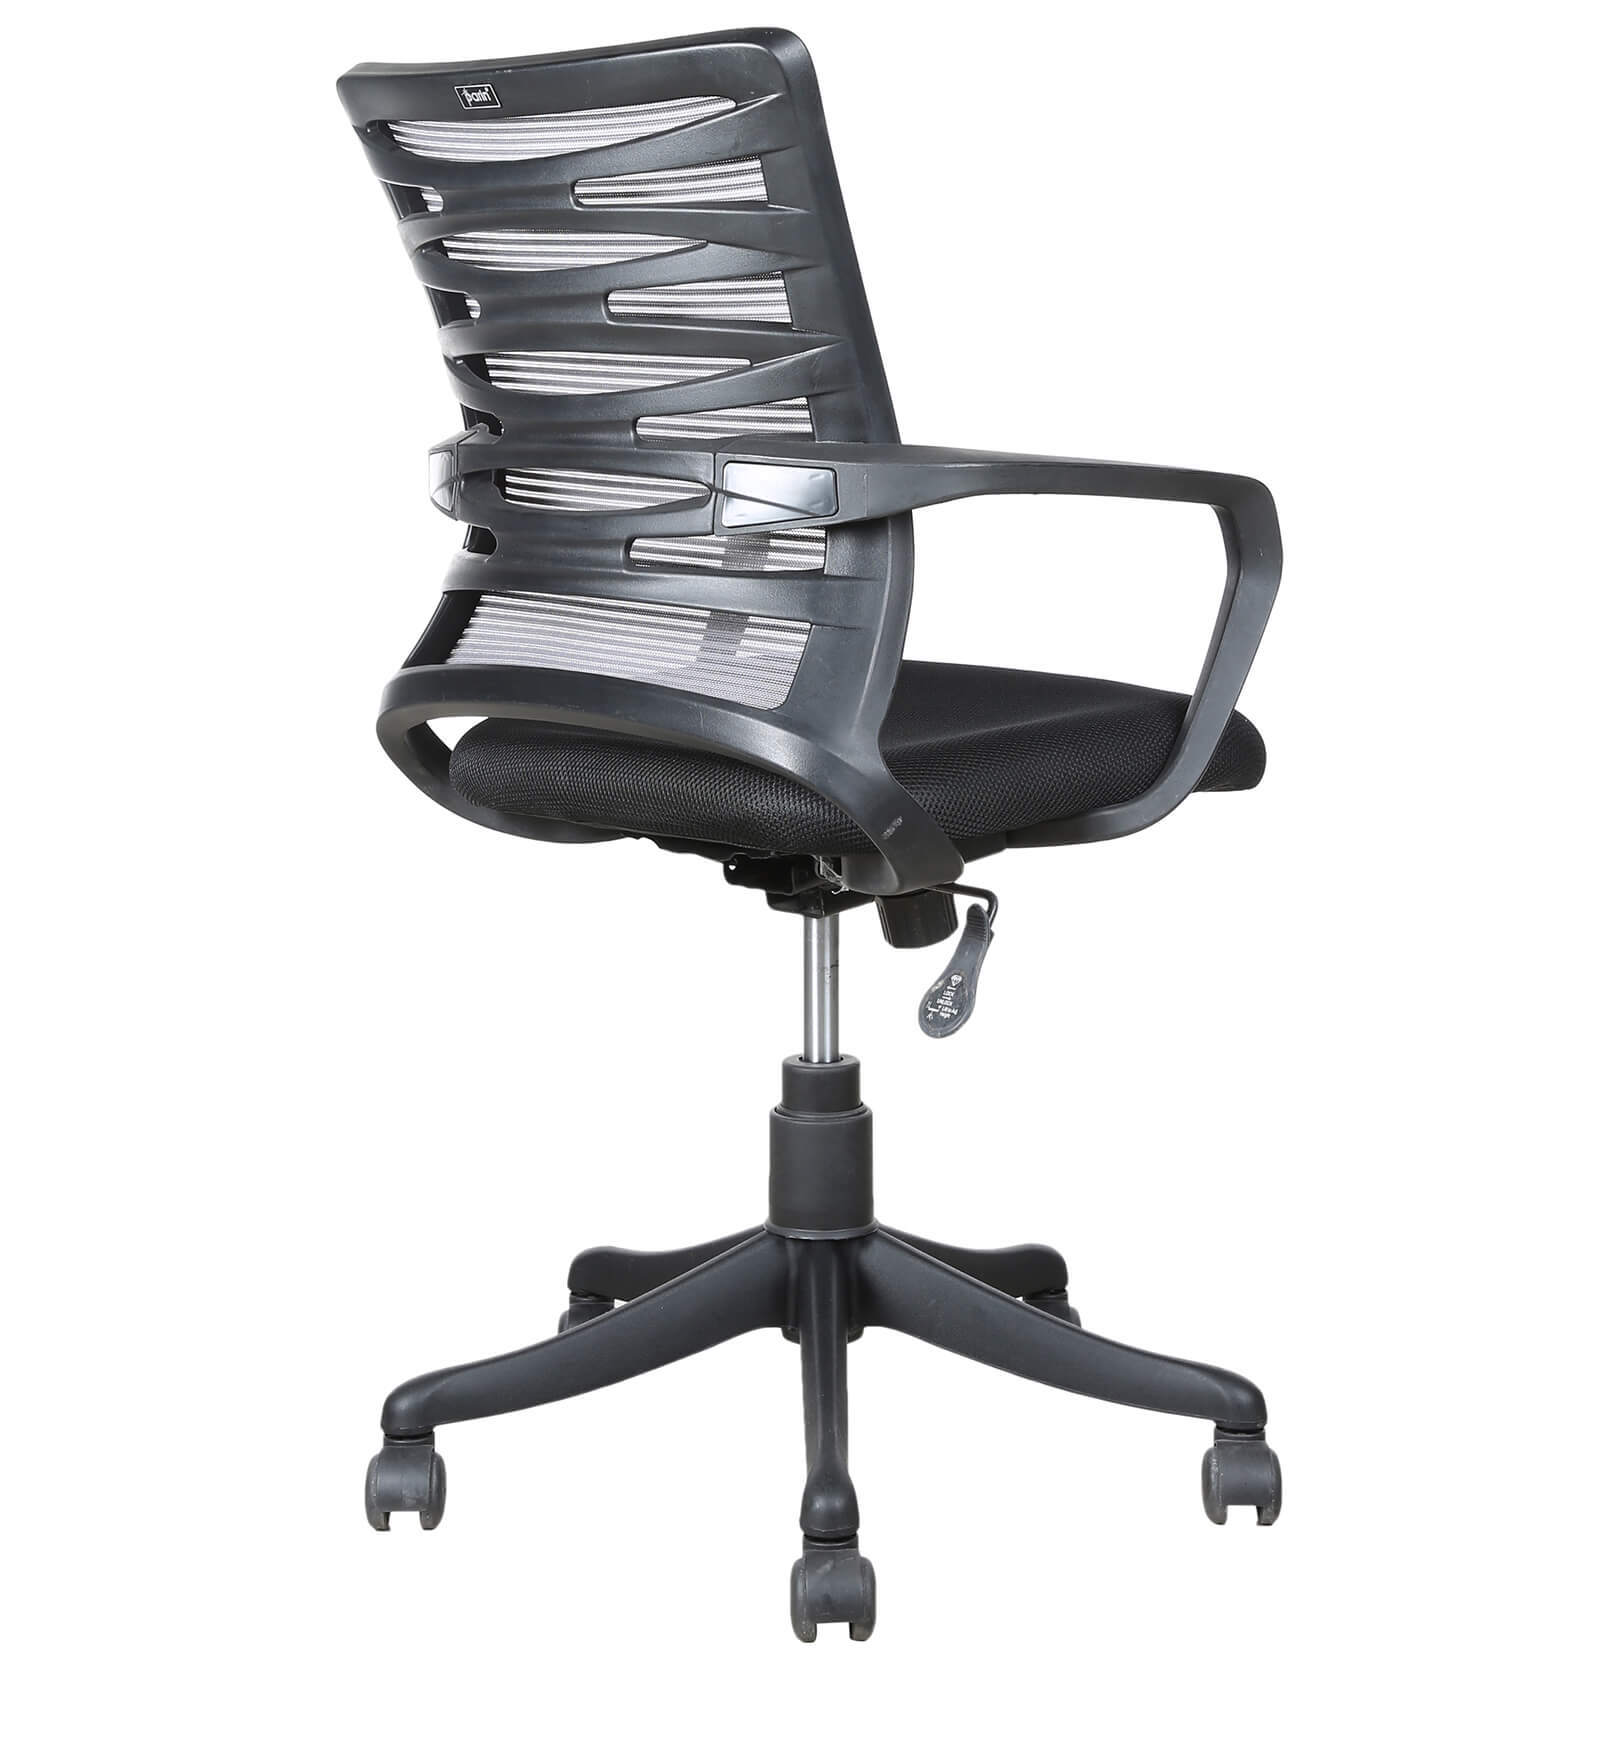Astec Ergonomic Chair in Grey Colour by Parin: (236, 35, 1346, 1674)
